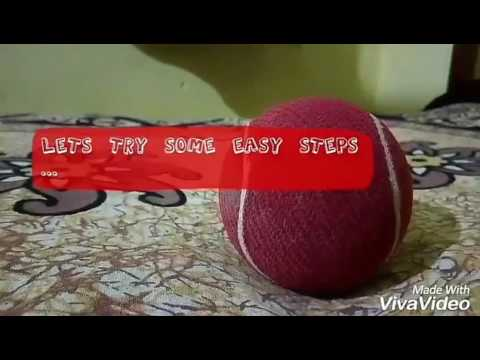red ball: (217, 96, 414, 294)
